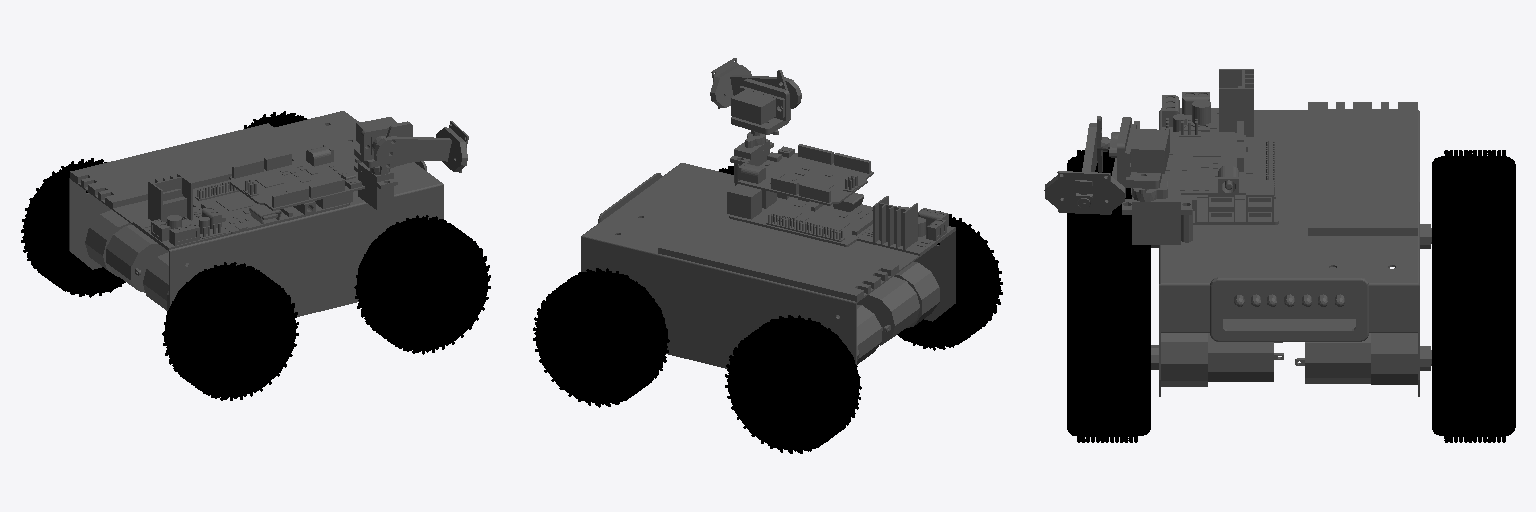
URDF robot description (robot_urdf):
<?xml version="1.0"?>
<robot name="robot_urdf" xmlns:xacro="http://ros.org/wiki/xacro">

<link name="world" />

  <link name="base_link">
    <visual>
    <geometry>
    <mesh filename="package://axioma_urdf/meshes/visual/chasis.stl" scale="1 1 1" />
    </geometry>
  <origin rpy="0 0 0" xyz="0 0 0"/>
  <material name="grey">
    <color rgba="0.4 0.4 0.4 1.0" />
  </material>
    </visual>
  <collision>
  <geometry>
    <mesh filename="package://axioma_urdf/meshes/collision/chasis.dae" scale="1 1 1" />
  </geometry>
  <origin rpy="0 0 0" xyz="0 0 0"/>
  </collision>
  <inertial>
  <mass value="100"/>
  <inertia ixx="1.0" ixy="0.0" ixz="0.0" iyy="1.0" iyz="0.0" izz="1.0"/>
  </inertial>
    </link>

    <link name="wheel_1">
    <visual>
    <geometry>
    <mesh filename="package://axioma_urdf/meshes/visual/llanta.stl" scale="1 1 1" />
    </geometry>
  <origin rpy="0 0 0" xyz="0 0 0"/>
    <material name="black">
  <color rgba="0 0 0 1"/>
  </material>
  </visual>
  <collision>
  <geometry>
    <mesh filename="package://axioma_urdf/meshes/collision/llanta.dae" scale="1 1 1" />
  </geometry>
  <origin rpy="0 0 0" xyz="0 0 0"/>
  </collision>
  <inertial>
  <mass value="10"/>
  <inertia ixx="1.0" ixy="0.0" ixz="0.0" iyy="1.0" iyz="0.0" izz="1.0"/>
  </inertial>
    </link>

    <link name="wheel_2">
    <visual>
    <geometry>
    <mesh filename="package://axioma_urdf/meshes/visual/llanta.stl" scale="1 1 1" />
    </geometry>
  <origin rpy="0 0 0" xyz="0 0 0"/>
    <material name="black"/>
    </visual>
  <collision>
  <geometry>
    <mesh filename="package://axioma_urdf/meshes/collision/llanta.dae" scale="1 1 1" />
  </geometry>
  <origin rpy="0 0 0" xyz="0 0 0"/>
  </collision>
  <inertial>
  <mass value="10"/>
  <inertia ixx="1.0" ixy="0.0" ixz="0.0" iyy="1.0" iyz="0.0" izz="1.0"/>
  </inertial>
    </link>

    <link name="wheel_3">
    <visual>
    <geometry>
    <mesh filename="package://axioma_urdf/meshes/visual/llanta.stl" scale="1 1 1" />
    </geometry>
  <origin rpy="0 0 0" xyz="0 0 0"/>
    <material name="black"/>
    </visual>
  <collision>
  <geometry>
    <mesh filename="package://axioma_urdf/meshes/collision/llanta.dae" scale="1 1 1" />
  </geometry>
  <origin rpy="0 0 0" xyz="0 0 0"/>
  </collision>
  <inertial>
  <mass value="10"/>
  <inertia ixx="1.0" ixy="0.0" ixz="0.0" iyy="1.0" iyz="0.0" izz="1.0"/>
  </inertial>
    </link>


    <link name="wheel_4">
    <visual>
    <geometry>
    <mesh filename="package://axioma_urdf/meshes/visual/llanta.stl" scale="1 1 1" />
    </geometry>
  <origin rpy="0 0 0" xyz="0 0 0"/>
    <material name="black"/>
    </visual>
  <collision>
  <geometry>
    <mesh filename="package://axioma_urdf/meshes/collision/llanta.dae" scale="1 1 1" />
  </geometry>
  <origin rpy="0 0 0" xyz="0 0 0"/>
  </collision>
  <inertial>
  <mass value="10"/>
  <inertia ixx="1.0" ixy="0.0" ixz="0.0" iyy="1.0" iyz="0.0" izz="1.0"/>
  </inertial>
    </link>

    <joint name="fixed" type="fixed">
      <parent link="world" />
      <child link="base_link" />
    </joint>

    <joint name="base_to_wheel1" type="continuous">
    <parent link="base_link"/>
    <origin rpy="0 0 0" xyz="0.06442 0.07385 0.04068"/>
    <child link="wheel_1"/>
    <axis xyz="0 1 0" />
    </joint>

    <joint name="base_to_wheel2" type="continuous">
    <parent link="base_link"/>
    <origin rpy="0 0 0" xyz="-0.071224 0.07385 0.04068"/>
    <child link="wheel_2"/>
    <axis xyz="0 1 0" />
    </joint>

    <joint name="base_to_wheel3" type="continuous">
    <parent link="base_link"/>
    <origin rpy="0 0 -3.14159" xyz="-0.071224 -0.0625 0.04068"/>
    <child link="wheel_3"/>
    <axis xyz="0 1 0" />
    </joint>

    <joint name="base_to_wheel4" type="continuous">
    <parent link="base_link"/>
    <origin rpy="0 0 -3.14159" xyz="0.064423 -0.0625 0.04068"/>
    <child link="wheel_4"/>
    <axis xyz="0 1 0" />
    </joint>

</robot>

--- What the picture shows (computed from the rendered views, not written in the file) ---
3 views of the same robot in one strip: view 1: azimuth 30°, elevation 25°; view 2: azimuth 150°, elevation 25°; view 3: azimuth 270°, elevation 25° (orthographic).
Model robot_urdf with 6 links and 5 joints (4 continuous, 1 fixed), rooted at world, posed all joints at 0.
Links seen in each view (by area): view 1: base_link, wheel_4, wheel_3, wheel_2; view 2: base_link, wheel_2, wheel_1, wheel_3; view 3: base_link, wheel_4, wheel_1, wheel_2, wheel_3.
Link boxes in pixels (x1=…): base_link: x1=69, y1=111, x2=468, y2=316; wheel_4: x1=354, y1=215, x2=490, y2=354; wheel_3: x1=162, y1=262, x2=298, y2=400; wheel_2: x1=21, y1=158, x2=125, y2=297; base_link: x1=581, y1=58, x2=955, y2=368; wheel_2: x1=725, y1=315, x2=861, y2=453; wheel_1: x1=533, y1=268, x2=669, y2=407; wheel_3: x1=897, y1=211, x2=1002, y2=350; base_link: x1=1044, y1=69, x2=1431, y2=396; wheel_4: x1=1067, y1=271, x2=1150, y2=442; wheel_1: x1=1432, y1=271, x2=1515, y2=442; wheel_2: x1=1432, y1=150, x2=1515, y2=285; wheel_3: x1=1067, y1=150, x2=1150, y2=284.
Size in the robot's own frame: 0.2167 by 0.222 by 0.1548 metres.
5 mesh visuals loaded from 2 distinct referenced files (2 binary STL).